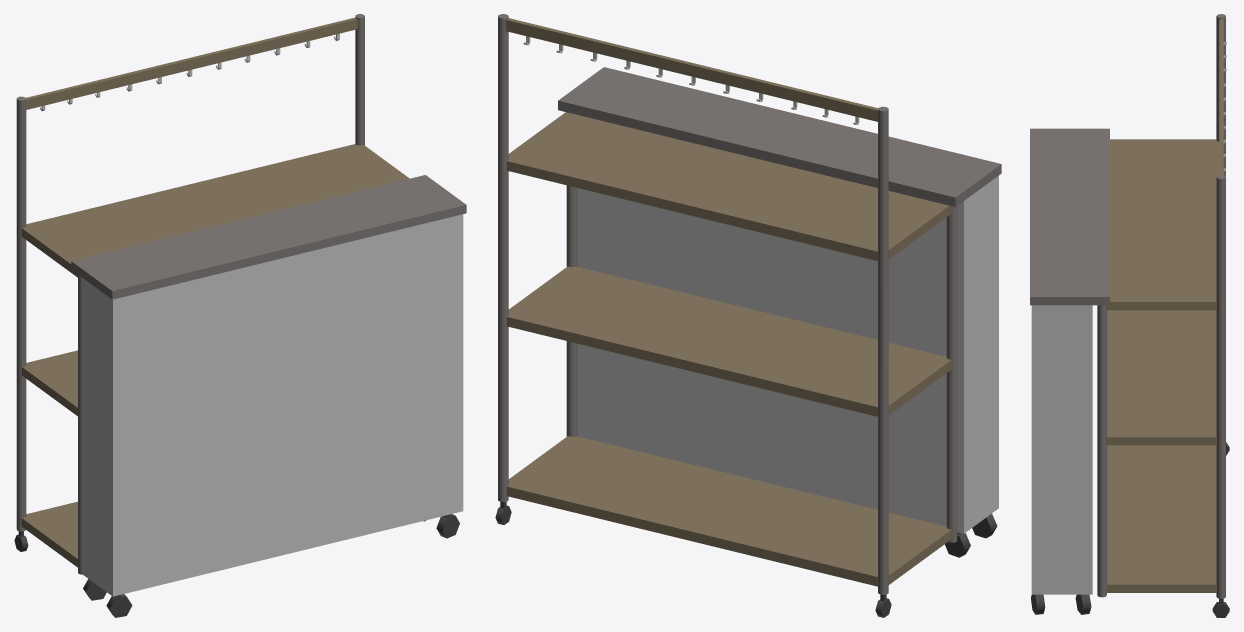
Rendered from SM_Rack_02.FBX.
3 renders of one model, left to right at view 1: azimuth 30°, elevation 25°; view 2: azimuth 150°, elevation 25°; view 3: azimuth 270°, elevation 25°, orthographic. The views are drawn at different scales.
Parts seen in each view (by area): view 1: SM_Rack_02; view 2: SM_Rack_02; view 3: SM_Rack_02.
Boxes of the visible parts, x1,y1,x2,y2 form: SM_Rack_02: (14,14,466,617); SM_Rack_02: (495,14,1001,617); SM_Rack_02: (1030,14,1229,617).
Bounding box in the file's own units: 157 × 78.81 × 191.
